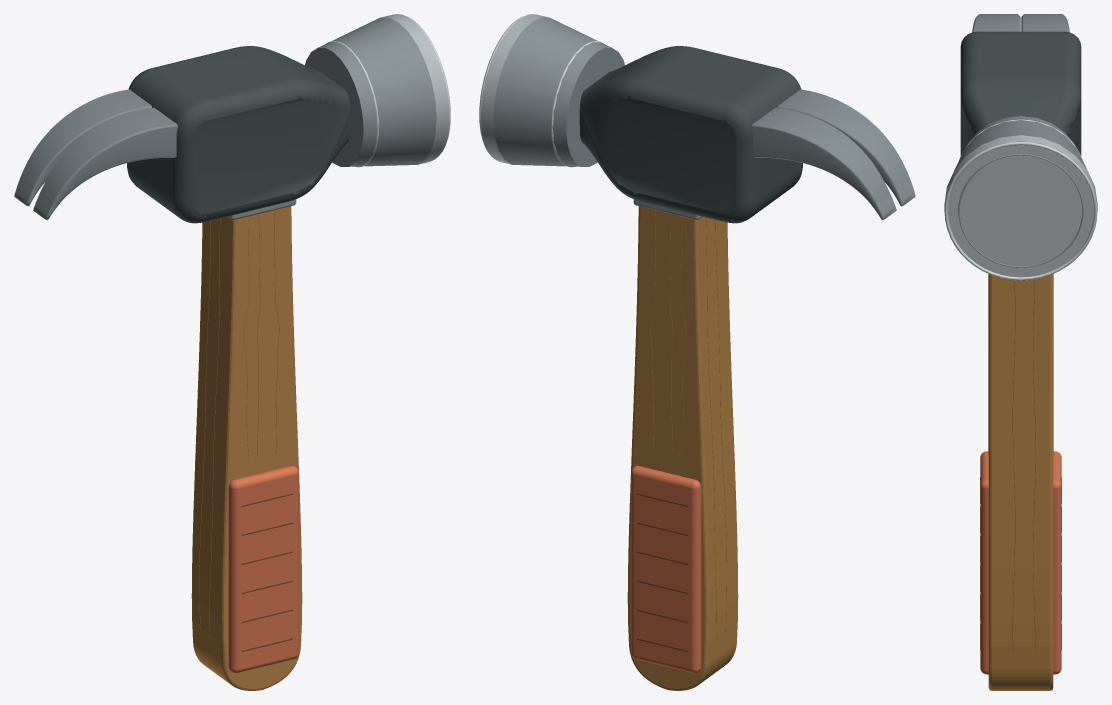
The model's file is workshop-hammer-grip-lines.glb.
The picture shows the model from 3 angles, left to right: view 1: azimuth 30°, elevation 25°; view 2: azimuth 150°, elevation 25°; view 3: azimuth 270°, elevation 25°; orthographic projection.
Visible parts, largest first — view 1: Wood_Handle, steelInset, Grip_Front, steel, Claw_Back, Claw_Front, steelEdge; view 2: Wood_Handle, steelInset, Grip_Back, steel, Claw_Front, Claw_Back, steelEdge; view 3: Wood_Handle, steelEdge, steelInset, steel, Grip_Front, Grip_Back, Polished_Striking_Rim, Claw_Front, Claw_Back, Machined_Face_Groove, Side_Wood_Right_5, Side_Wood_Right_2.
Part boxes in pixels (x1=…): Wood_Handle: x1=191, y1=206, x2=302, y2=690; steelInset: x1=127, y1=46, x2=350, y2=223; Grip_Front: x1=228, y1=465, x2=298, y2=673; steel: x1=305, y1=17, x2=436, y2=166; Claw_Back: x1=33, y1=107, x2=177, y2=220; Claw_Front: x1=14, y1=89, x2=151, y2=206; steelEdge: x1=381, y1=14, x2=449, y2=164; Wood_Handle: x1=627, y1=206, x2=738, y2=690; steelInset: x1=579, y1=46, x2=802, y2=223; Grip_Back: x1=631, y1=465, x2=701, y2=673; steel: x1=493, y1=17, x2=624, y2=166; Claw_Front: x1=752, y1=107, x2=896, y2=220; Claw_Back: x1=778, y1=89, x2=915, y2=206; steelEdge: x1=480, y1=14, x2=548, y2=164; Wood_Handle: x1=988, y1=274, x2=1053, y2=690; steelEdge: x1=944, y1=135, x2=1097, y2=277; steelInset: x1=960, y1=31, x2=1081, y2=155; steel: x1=955, y1=116, x2=1086, y2=168; Grip_Front: x1=980, y1=451, x2=988, y2=674; Grip_Back: x1=1053, y1=451, x2=1061, y2=674; Polished_Striking_Rim: x1=944, y1=142, x2=1097, y2=280; Claw_Front: x1=1021, y1=14, x2=1069, y2=32; Claw_Back: x1=972, y1=14, x2=1020, y2=32; Machined_Face_Groove: x1=958, y1=154, x2=1083, y2=267; Side_Wood_Right_5: x1=1012, y1=280, x2=1015, y2=651; Side_Wood_Right_2: x1=1033, y1=279, x2=1035, y2=651.
Bounding box in the file's own units: 0.2629 × 0.4061 × 0.0902.
